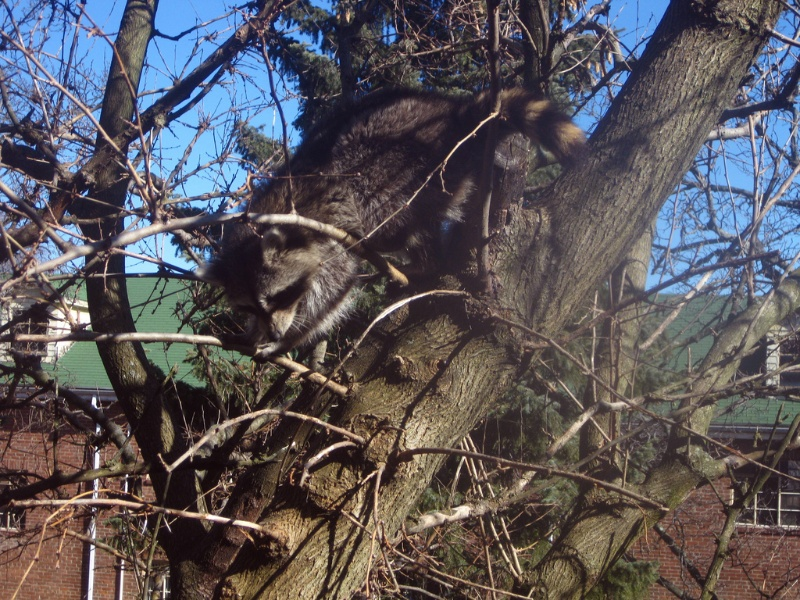raccoon: (212, 82, 595, 366)
